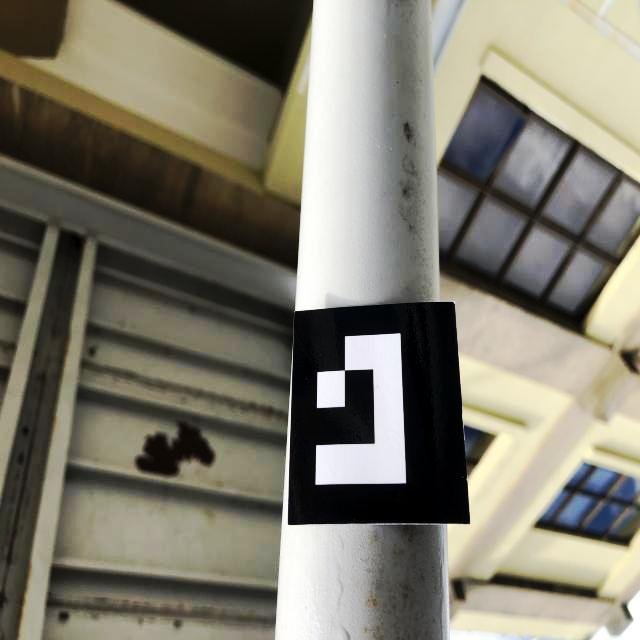Corrosion: (138, 422, 214, 474)
